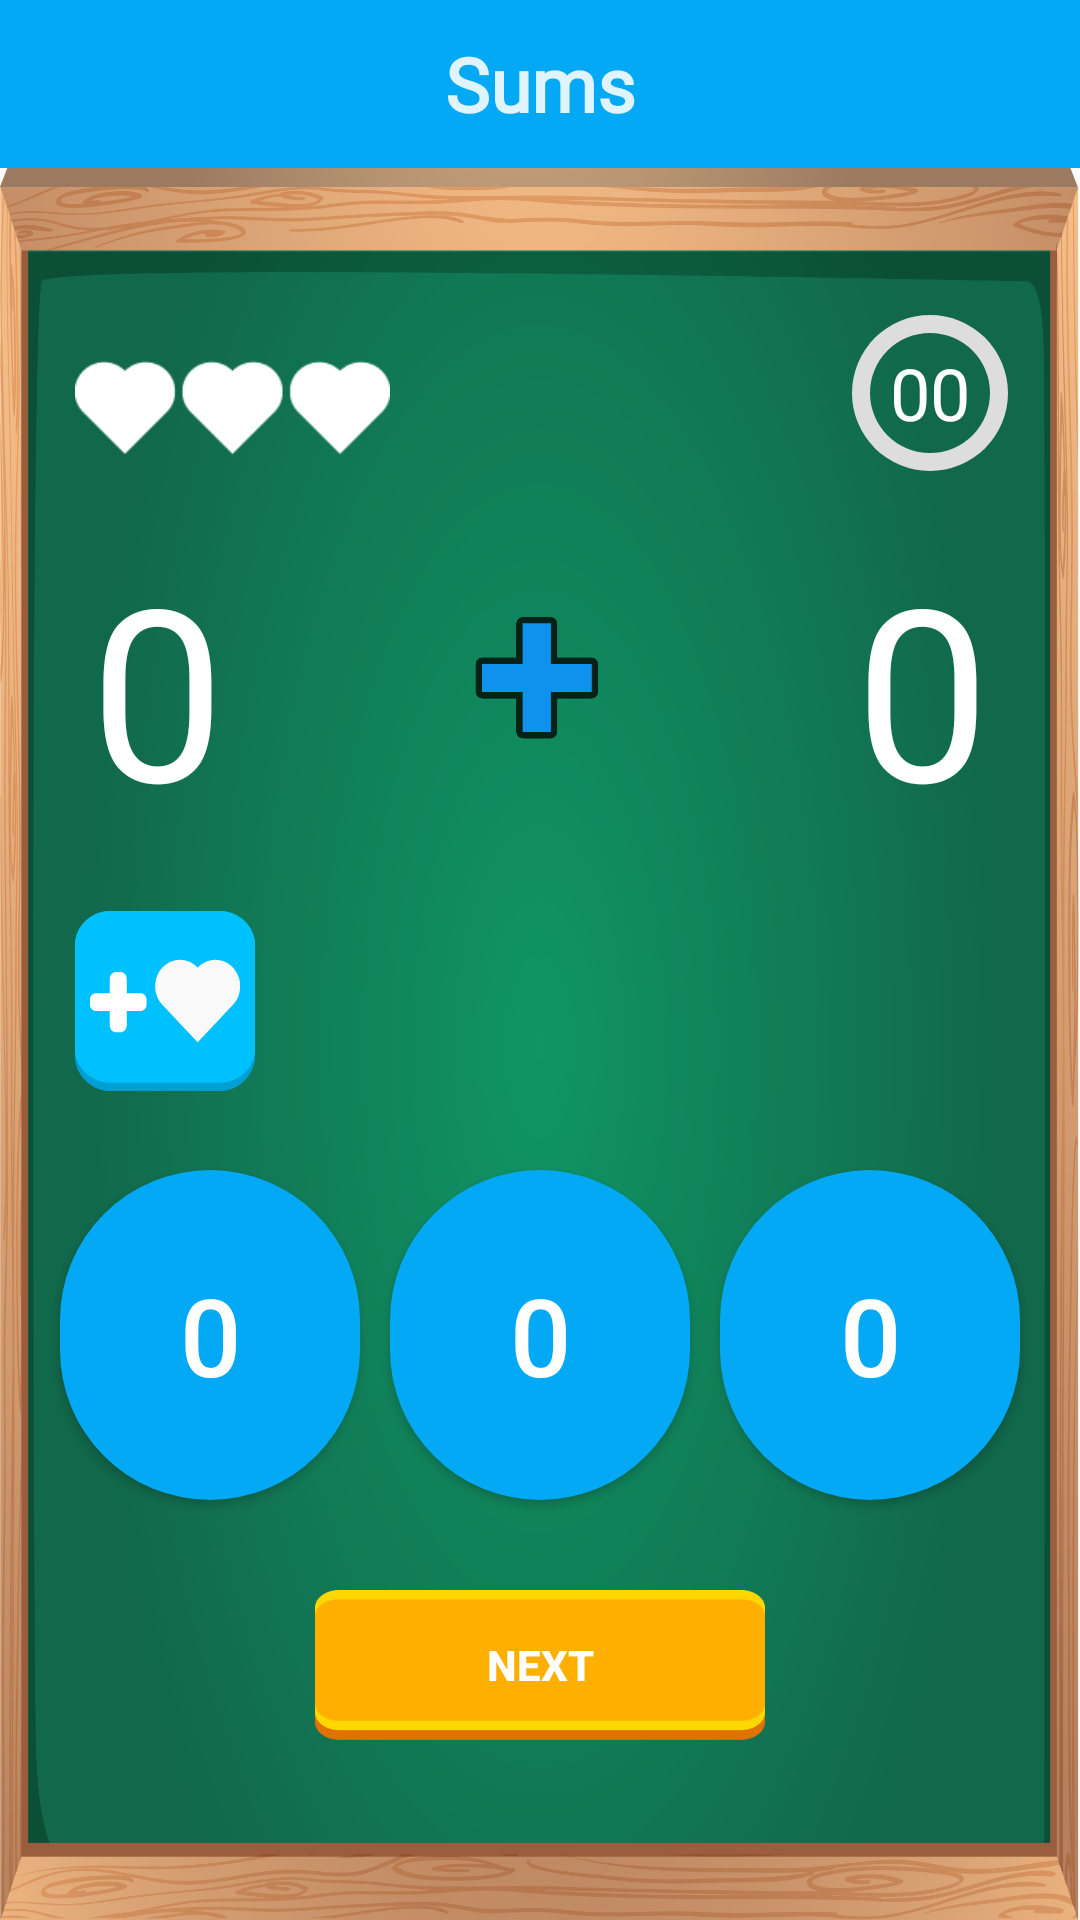

Named icons in this screenshot (1080px x 1920px) and their bounding boxes, box(x1, y1, x2, y2):
adicion: box(475, 617, 598, 739)
lifes: box(75, 361, 390, 454)
